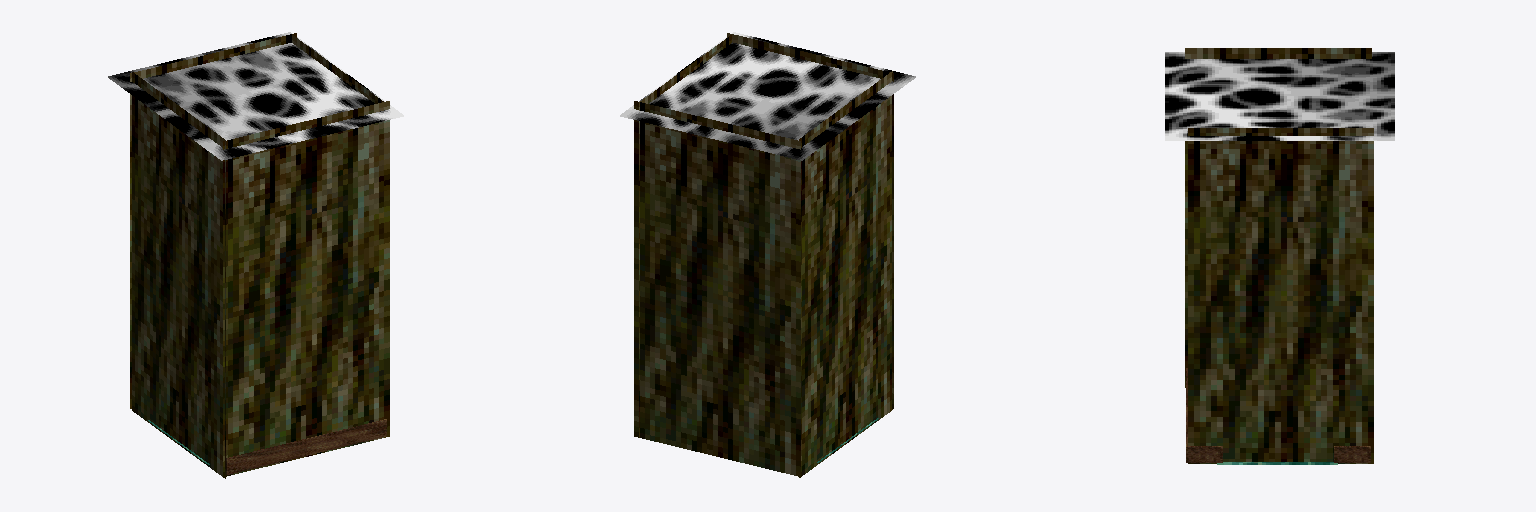
3 renders of one model, left to right at view 1: azimuth 30°, elevation 25°; view 2: azimuth 150°, elevation 25°; view 3: azimuth 270°, elevation 25°, orthographic.
Parts seen in each view (by area): view 1: Wall1, Wall3, Plane_celling, Bottom_Stair, Wall2, Wall4; view 2: Wall2, Wall3, Plane_celling, Wall1, Wall4; view 3: Wall4, Plane_celling, Wall3, Bottom_Stair, Bottom_Entrance.
Boxes of the visible parts, x1,y1,x2,y2 form: Wall1: [223, 101, 389, 476]; Wall3: [132, 72, 225, 478]; Plane_celling: [108, 32, 403, 160]; Bottom_Stair: [226, 419, 386, 474]; Wall2: [130, 33, 296, 408]; Wall4: [292, 35, 383, 103]; Wall2: [634, 101, 800, 476]; Wall3: [799, 71, 892, 477]; Plane_celling: [620, 32, 915, 160]; Wall1: [727, 33, 893, 408]; Wall4: [639, 35, 731, 437]; Wall4: [1188, 128, 1373, 463]; Plane_celling: [1165, 52, 1394, 140]; Wall3: [1185, 48, 1371, 387]; Bottom_Stair: [1186, 368, 1222, 462]; Bottom_Entrance: [1334, 446, 1370, 462].
Bounding box in the file's own units: 2860 × 5050 × 3102.
Materials: 4 (4 with a texture image).